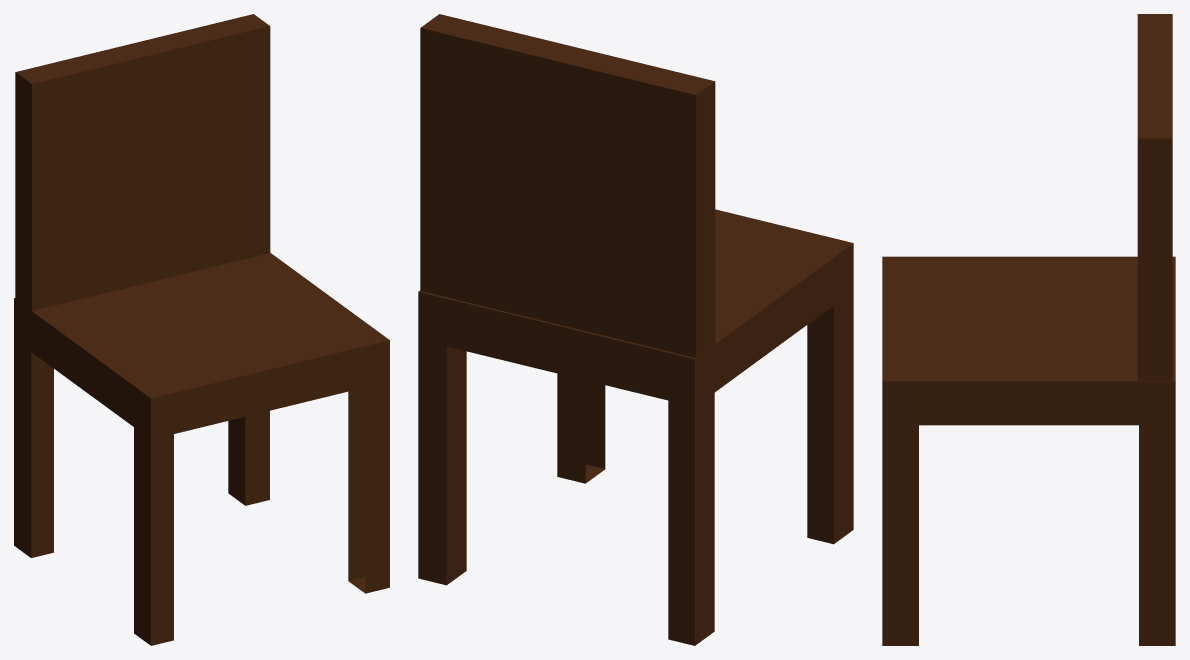
Rendered from chair.fbx.
3 views of the same model, side by side, from view 1: azimuth 30°, elevation 25°; view 2: azimuth 150°, elevation 25°; view 3: azimuth 270°, elevation 25° (orthographic). The views are drawn at different scales.
Parts seen in each view (by area): view 1: Cube, Cube.001; view 2: Cube.001, Cube; view 3: Cube, Cube.001.
Part boxes in pixels (left/top/right/bottom): Cube: left=14, top=253, right=389, bottom=645; Cube.001: left=15, top=14, right=270, bottom=310; Cube.001: left=420, top=14, right=715, bottom=357; Cube: left=418, top=209, right=853, bottom=645; Cube: left=882, top=256, right=1175, bottom=645; Cube.001: left=1137, top=14, right=1172, bottom=380.
Size of the model in its own units: 68.91 by 131 by 68.49.
